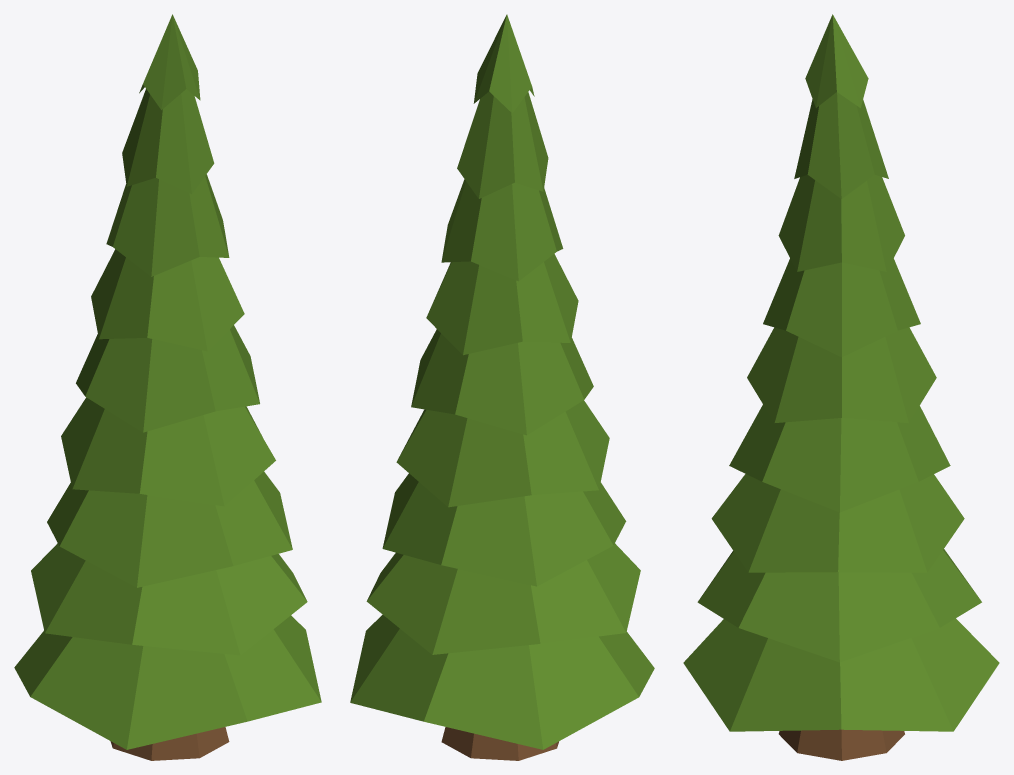
File: Pine03.fbx
3 views of the same model, side by side, from view 1: azimuth 30°, elevation 25°; view 2: azimuth 150°, elevation 25°; view 3: azimuth 270°, elevation 25° (orthographic).
Visible parts, largest first — view 1: Pine; view 2: Pine; view 3: Pine.
Part boxes in pixels (x1,y1,x2,y2): Pine: (14, 14, 321, 760); Pine: (350, 14, 654, 760); Pine: (683, 14, 999, 760).
Size of the model in its own units: 200 by 200 by 502.
